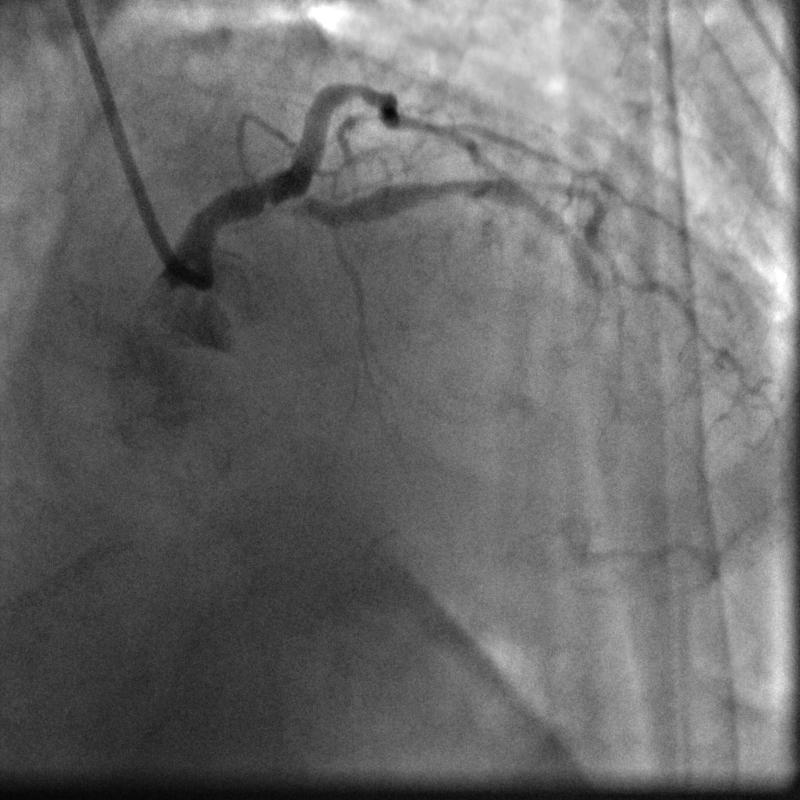Stenosis: (275, 186, 321, 219)
